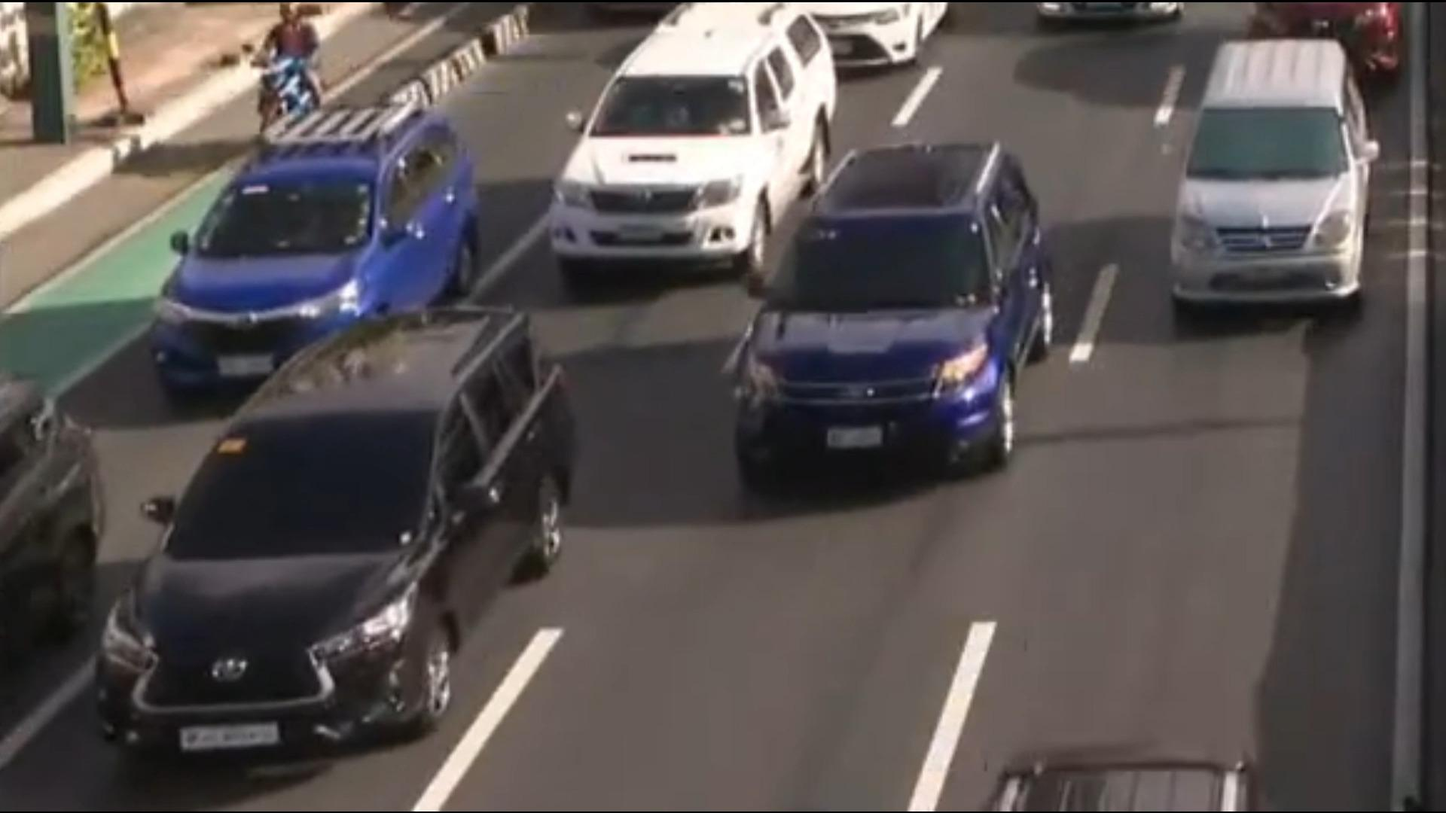Motorcycle: (224, 0, 352, 150)
SUV: (73, 288, 601, 797), (737, 113, 1100, 505), (113, 96, 503, 380), (540, 0, 876, 297), (1144, 44, 1384, 349)
